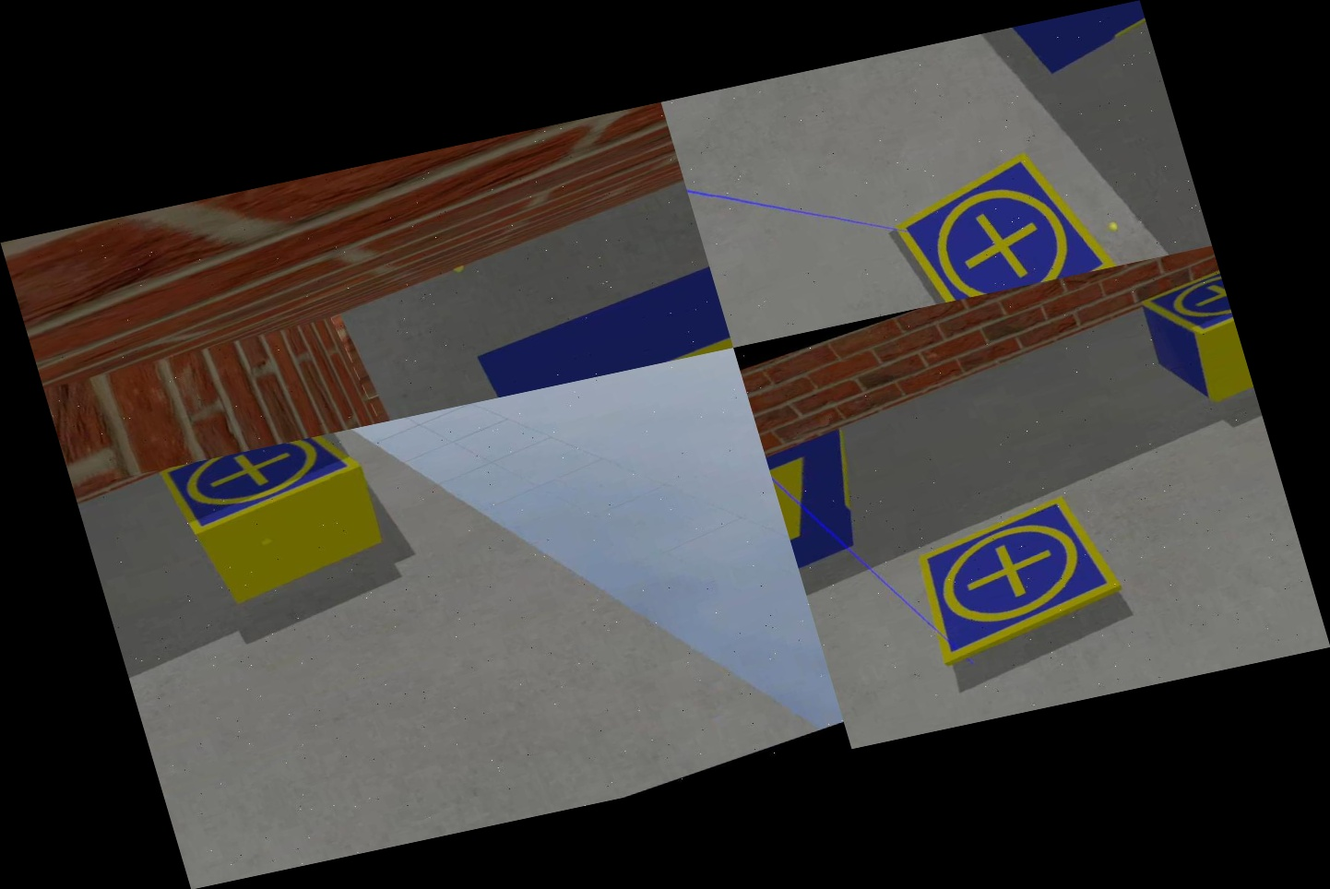large_base: (447, 212, 733, 400), (761, 419, 902, 587)
small_base: (892, 487, 1135, 668), (872, 136, 1122, 310), (157, 429, 374, 543), (1133, 260, 1237, 350)
